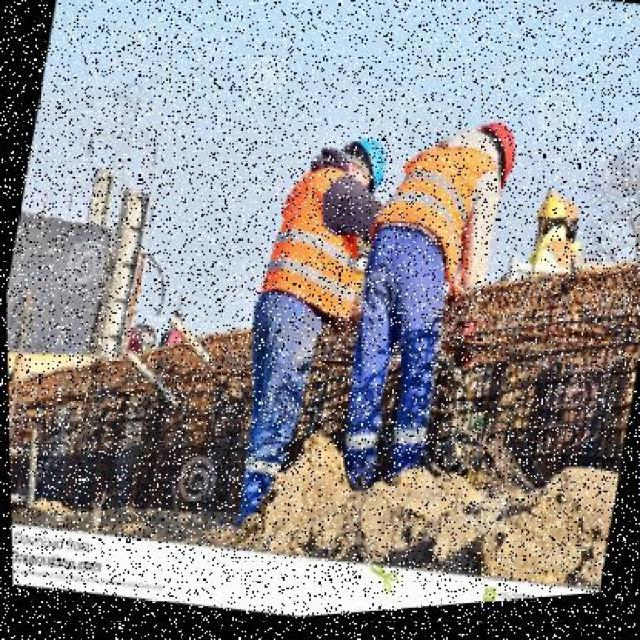vest: (260, 157, 378, 332), (376, 132, 505, 292)
